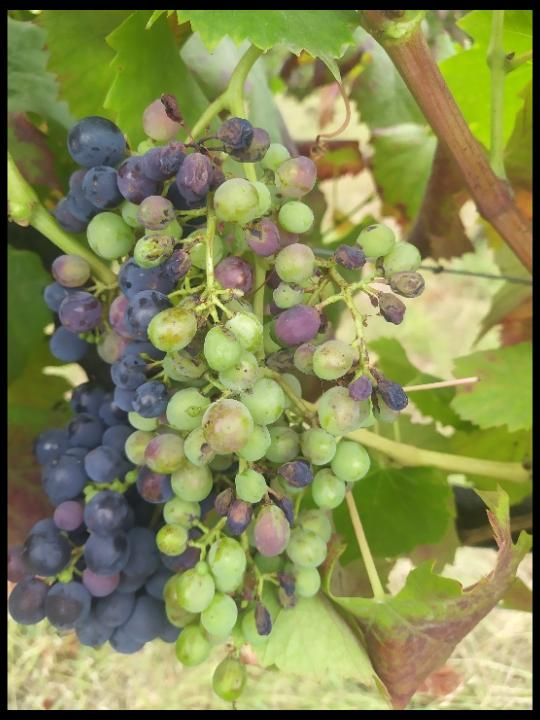grape: (45, 93, 424, 705)
